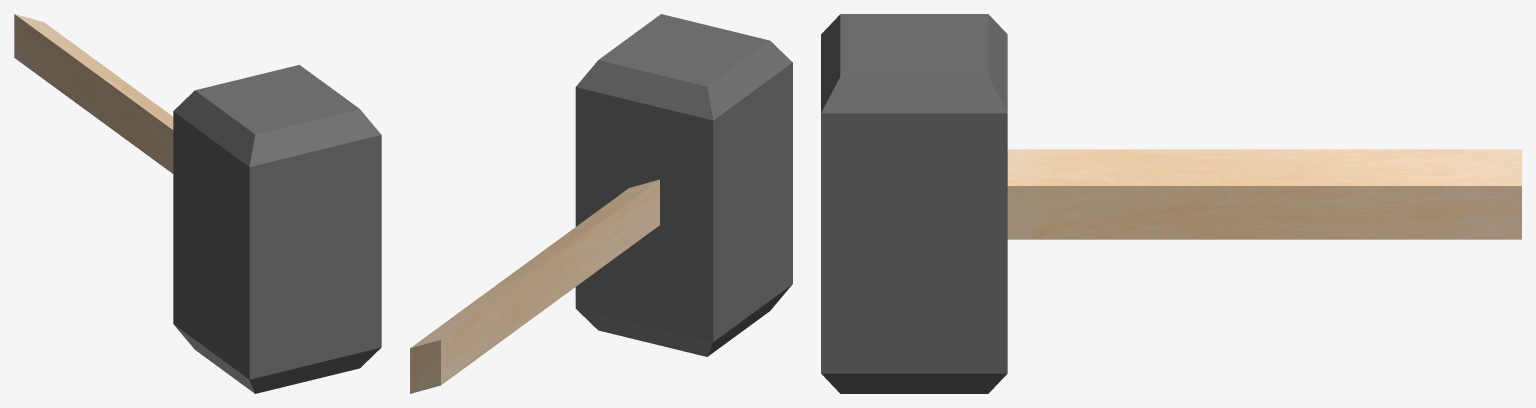
Rendered from hamer003.fbx.
The picture shows the model from 3 angles, left to right: view 1: azimuth 30°, elevation 25°; view 2: azimuth 150°, elevation 25°; view 3: azimuth 270°, elevation 25°; orthographic projection. The views are drawn at different scales.
Visible parts, largest first — view 1: 立方体; view 2: 立方体; view 3: 立方体.
Part boxes in pixels (bbox=[...]): 立方体: bbox=[14, 14, 381, 393]; 立方体: bbox=[410, 14, 792, 393]; 立方体: bbox=[821, 14, 1521, 393].
Bounding box in the file's own units: 200 × 375 × 751.
Materials: 2 (1 with a texture image).
